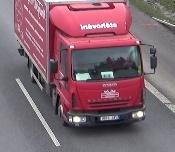truck: (11, 0, 157, 133)
